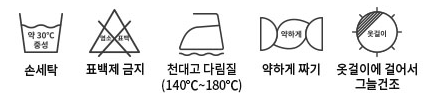KR_gentle_wring: (256, 13, 327, 56)
KR_hand_wash_30_neutral: (16, 8, 65, 58)
KR_hang_dry_in_shade: (348, 7, 405, 58)
KR_no_chlorine_bleach: (86, 7, 142, 59)
